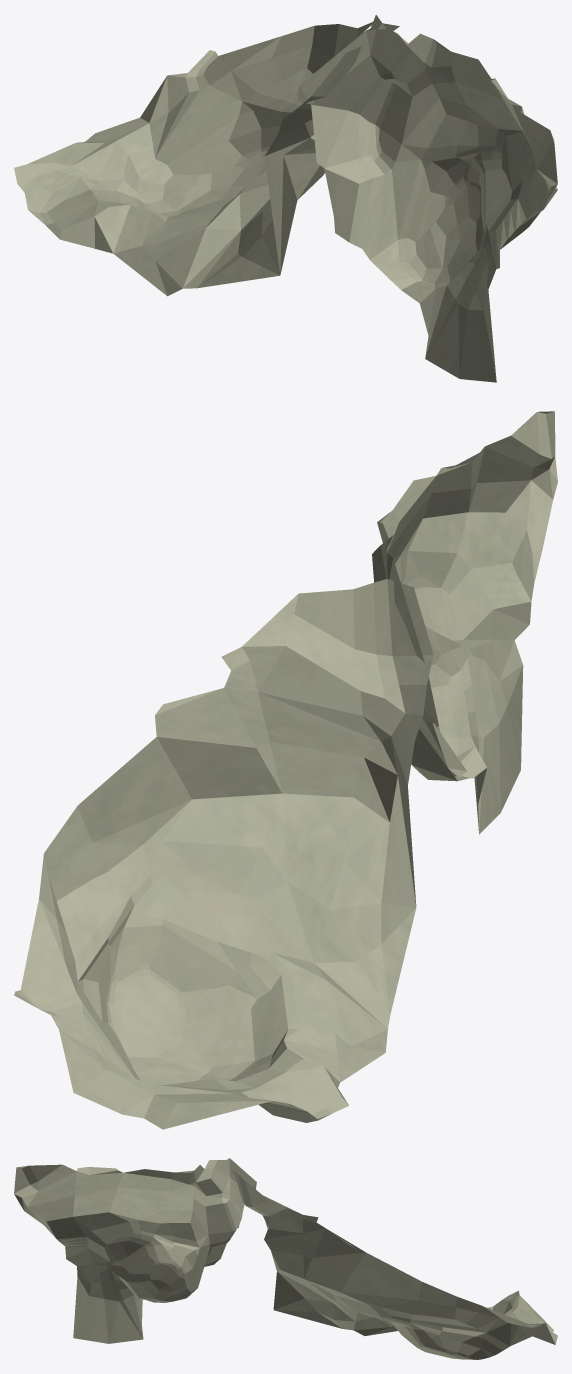
3 views of the same model, one above another, from view 1: azimuth 30°, elevation 25°; view 2: azimuth 150°, elevation 25°; view 3: azimuth 270°, elevation 25° (orthographic). The views are drawn at different scales.
Parts seen in each view (by area): view 1: ao_fbx; view 2: ao_fbx; view 3: ao_fbx.
Boxes of the visible parts, x1=… form: ao_fbx: x1=14, y1=15, x2=557, y2=382; ao_fbx: x1=14, y1=411, x2=557, y2=1129; ao_fbx: x1=14, y1=1158, x2=557, y2=1359.
Bounding box in the file's own units: 250 × 299 × 691.
